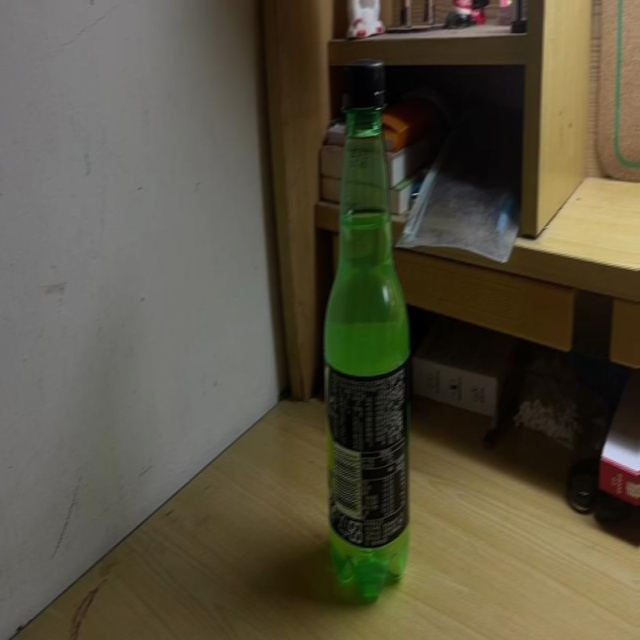Mountain-Dew: (328, 58, 414, 598)
